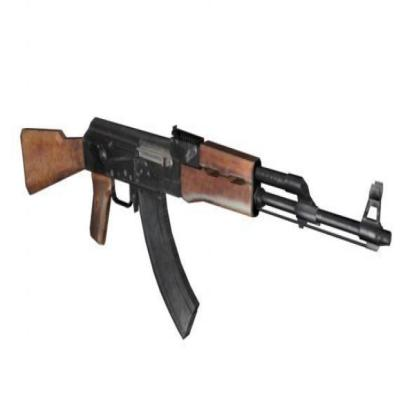Gun: (16, 104, 390, 346)
